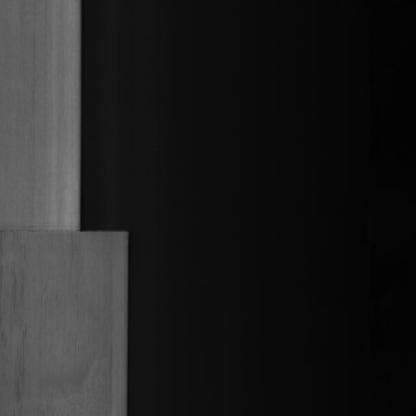welding_line: (2, 212, 141, 247)
